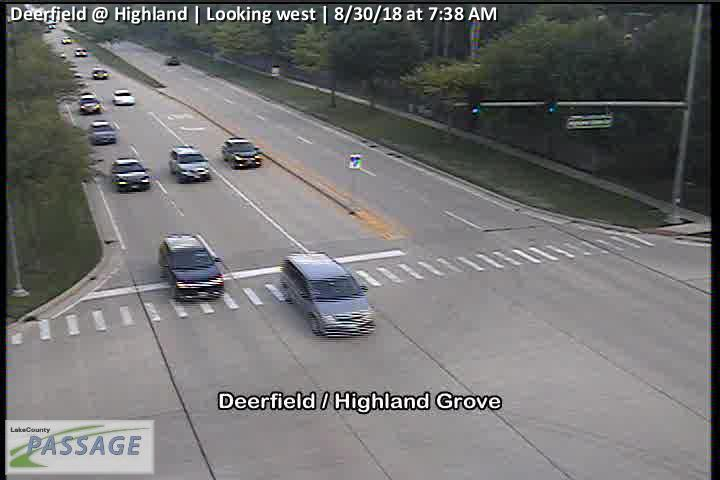SUV: (281, 249, 377, 338), (169, 146, 212, 181)
Sedan: (156, 235, 225, 301), (222, 136, 264, 168), (111, 156, 149, 191), (88, 119, 117, 145), (110, 88, 136, 106)
